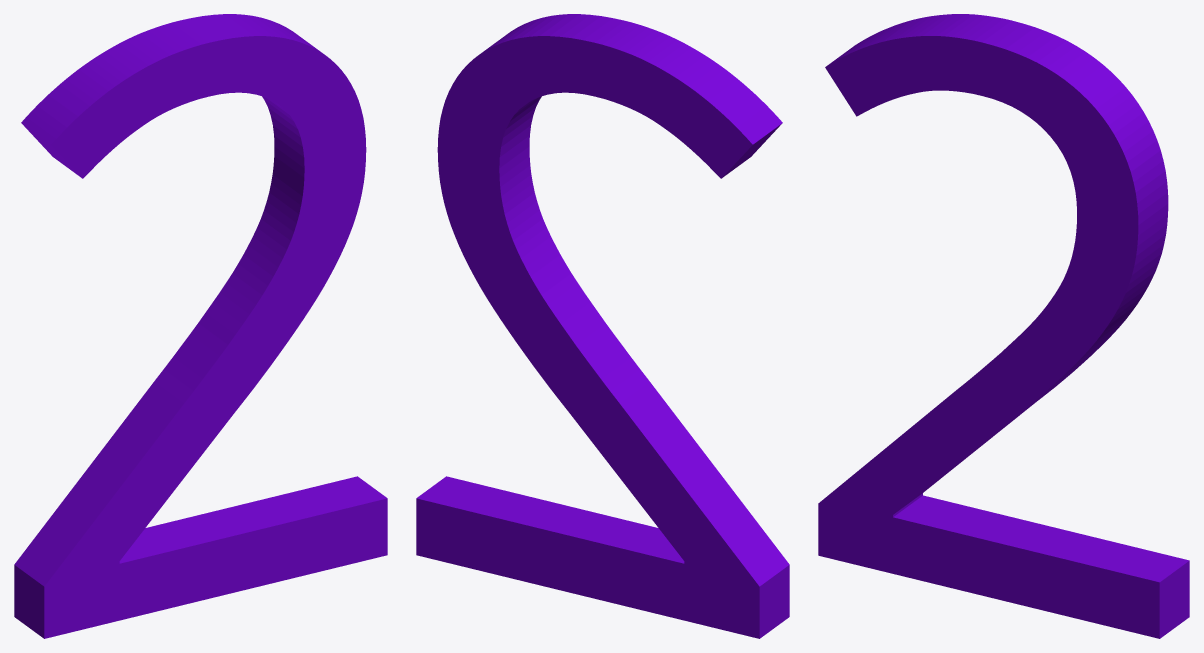
File: 3d-number-2.glb
3 views of the same model, side by side, from view 1: azimuth 30°, elevation 25°; view 2: azimuth 150°, elevation 25°; view 3: azimuth 330°, elevation 25° (orthographic).
Visible parts, largest first — view 1: Mesh_Mesh_head_geo.001_lambert2SG.001; view 2: Mesh_Mesh_head_geo.001_lambert2SG.001; view 3: Mesh_Mesh_head_geo.001_lambert2SG.001.
Boxes of the visible parts, left/top/right/bottom form: Mesh_Mesh_head_geo.001_lambert2SG.001: left=14, top=14, right=387, bottom=638; Mesh_Mesh_head_geo.001_lambert2SG.001: left=416, top=14, right=789, bottom=638; Mesh_Mesh_head_geo.001_lambert2SG.001: left=818, top=14, right=1189, bottom=638.
Bounding box in the file's own units: 0.0329 × 0.0509 × 0.005.
